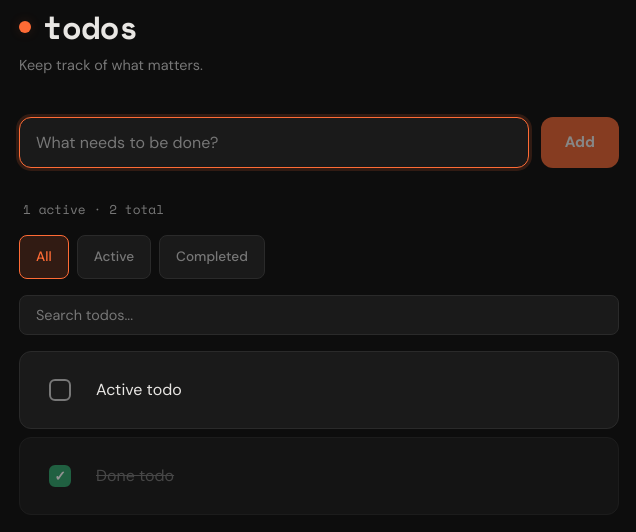
it: App › filters to completed todos only
This screenshot has width=636, height=532.
Expected: the text "Active todo" is shown, top-left (96, 379), bottom-right (182, 400)
Step 1. Click the button "Completed" → (212, 257), box top-left (159, 235), bottom-right (265, 279)
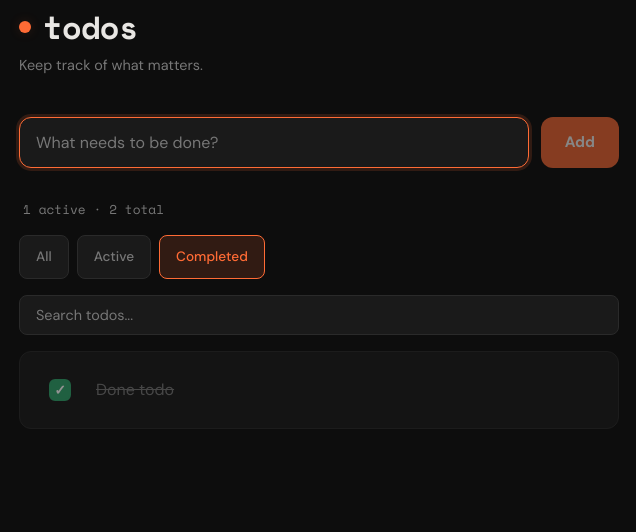
Expected: the text "Done todo" is shown, top-left (96, 379), bottom-right (174, 400)
Now the text "Active todo" is gone
